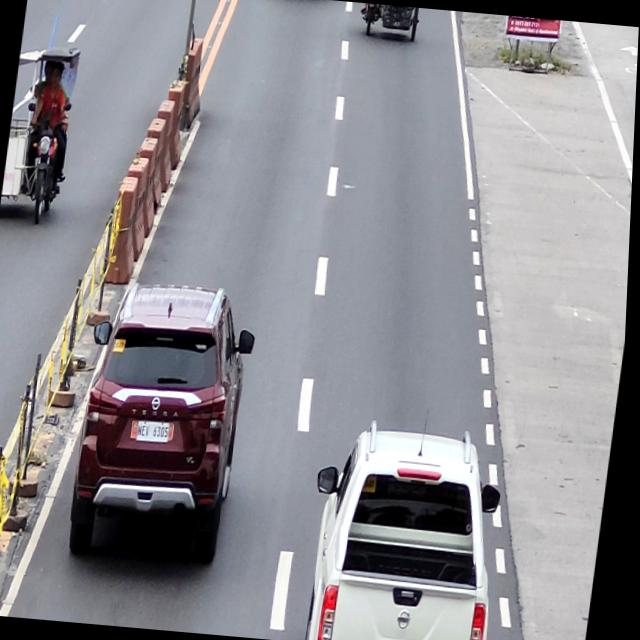Car: (65, 278, 263, 566), (300, 421, 516, 640)
License-Plate: (138, 420, 174, 442)
